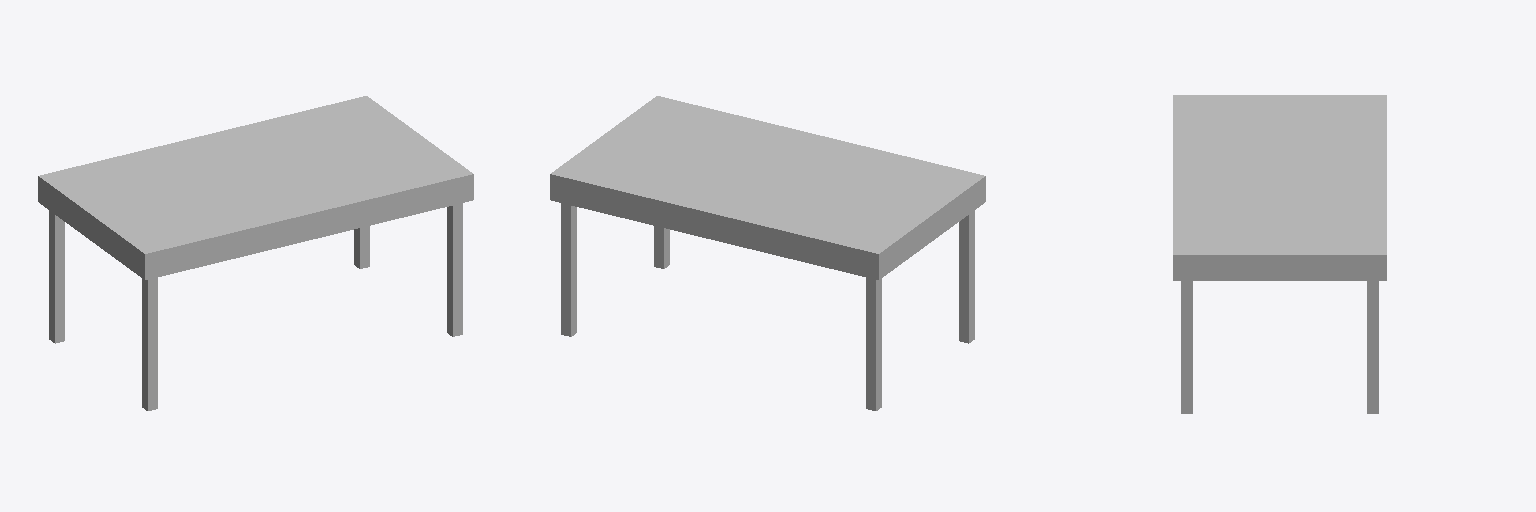
File: table.obj
3 renders of one model, left to right at view 1: azimuth 30°, elevation 25°; view 2: azimuth 150°, elevation 25°; view 3: azimuth 270°, elevation 25°, orthographic.
Visible parts, largest first — view 1: Table.001; view 2: Table.001; view 3: Table.001.
Boxes of the visible parts, box(x1,y1,x2,y2) form: Table.001: box(38, 96, 473, 410); Table.001: box(550, 96, 985, 410); Table.001: box(1173, 95, 1386, 413).
Bounding box in the file's own units: 7.09 × 3.34 × 4.